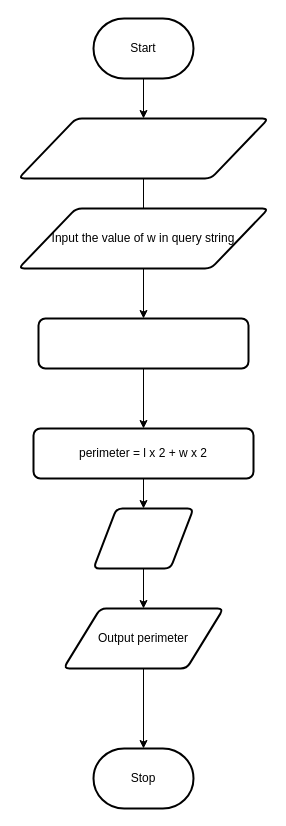
This 286x826 diagram has some shape labels left out. Here are the shapes that lost their labels. From the top down, the centre of each, then its label:
At point (143, 148): "Input the value of l in query string".
At point (143, 343): "area = l x w".
At point (143, 538): "Output area".
